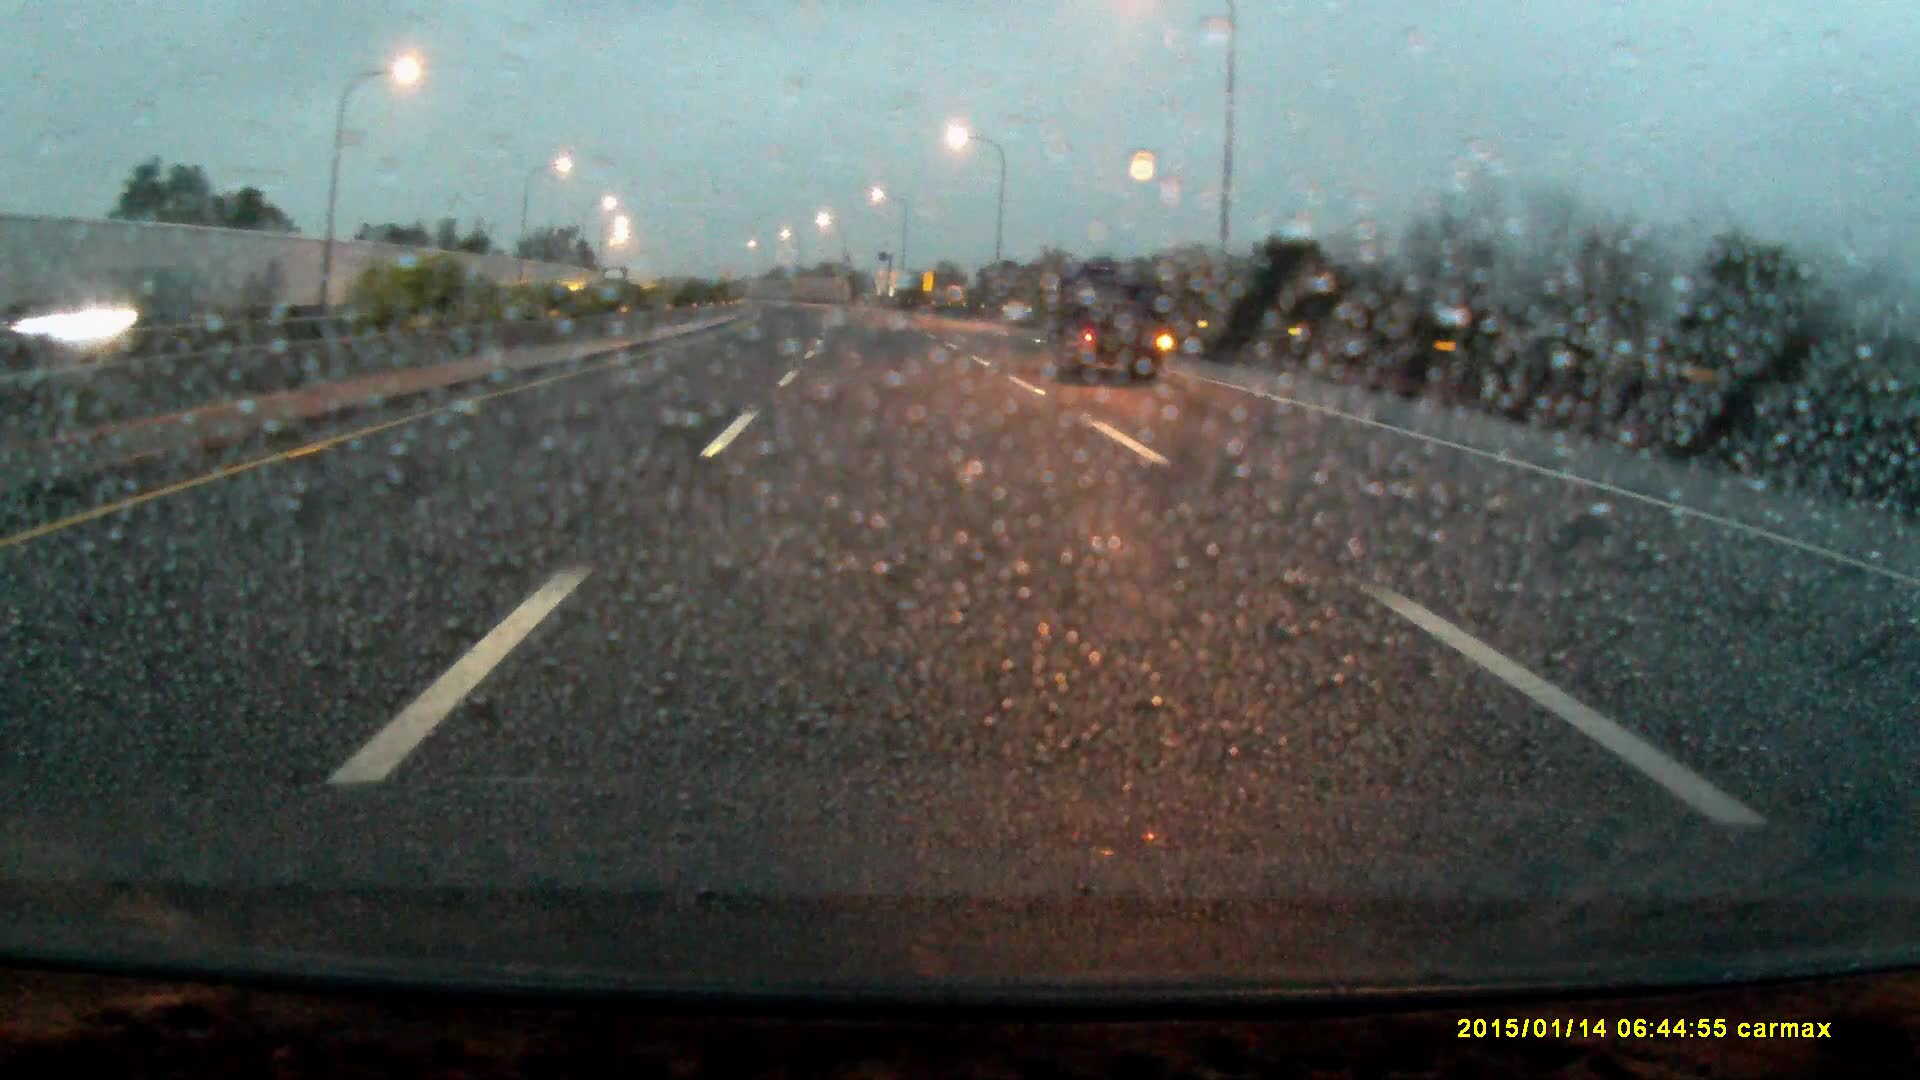vehicle: (1047, 262, 1172, 385), (603, 268, 629, 297)
